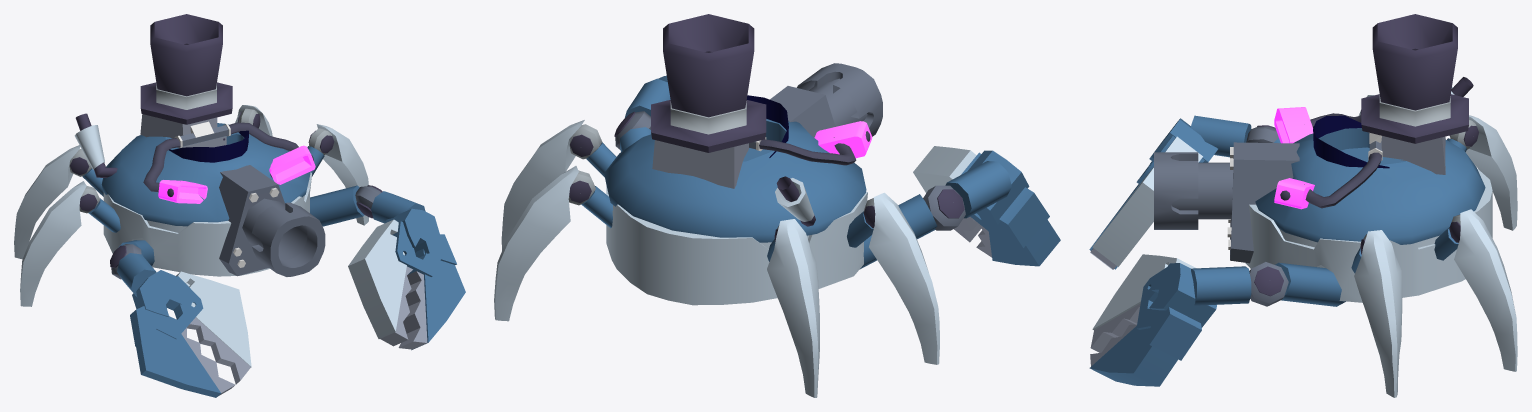
Rendered from Crabinton.fbx.
3 views of the same model, side by side, from view 1: azimuth 30°, elevation 25°; view 2: azimuth 150°, elevation 25°; view 3: azimuth 270°, elevation 25° (orthographic). The views are drawn at different scales.
Parts seen in each view (by area): view 1: base_azul, somberero, base, Objeto_Poligonal_1, Objeto_Poligonal_1_1, sup, Tubo, Fin_Pata_1, Objeto_Poligonal_1_2, Objeto_Poligonal_2, fim_pata2, Objeto_Poligonal_2_2 (+18 smaller); view 2: base_azul, base, somberero, Fin_Pata_1, fim_pata2, fim_pata2_1, Fin_Pata_1_1, Cubo, Tubo, Fin_Finza, Objeto_Poligonal_2_2, sup (+14 smaller); view 3: base_azul, somberero, base, Fin_Pata_1_1, fim_pata2_1, sup, Objeto_Poligonal_1_1, Tubo, Objeto_Poligonal_2, Objeto_Poligonal_1, fim_pata2, Objeto_Poligonal_2_1 (+15 smaller).
Boxes of the visible parts, bbox=[...] form: base_azul: bbox=[101, 123, 310, 226]; somberero: bbox=[140, 14, 232, 124]; base: bbox=[103, 172, 311, 276]; Objeto_Poligonal_1: bbox=[348, 219, 412, 346]; Objeto_Poligonal_1_1: bbox=[398, 248, 465, 350]; sup: bbox=[219, 165, 285, 276]; Tubo: bbox=[252, 202, 325, 276]; Fin_Pata_1: bbox=[20, 181, 86, 306]; Objeto_Poligonal_1_2: bbox=[136, 329, 221, 397]; Objeto_Poligonal_2: bbox=[176, 271, 251, 367]; fim_pata2: bbox=[14, 145, 80, 259]; Objeto_Poligonal_2_2: bbox=[130, 276, 203, 346]; base_azul: bbox=[604, 95, 866, 242]; base: bbox=[606, 155, 867, 305]; somberero: bbox=[651, 14, 766, 152]; Fin_Pata_1: bbox=[869, 192, 939, 364]; fim_pata2: bbox=[767, 219, 819, 397]; fim_pata2_1: bbox=[494, 166, 578, 321]; Fin_Pata_1_1: bbox=[501, 120, 584, 250]; Cubo: bbox=[652, 140, 748, 188]; Tubo: bbox=[797, 63, 882, 136]; Fin_Finza: bbox=[945, 161, 1011, 218]; Objeto_Poligonal_2_2: bbox=[961, 152, 1049, 247]; sup: bbox=[770, 86, 835, 137]; base_azul: bbox=[1255, 115, 1485, 244]; somberero: bbox=[1361, 14, 1468, 143]; base: bbox=[1245, 169, 1492, 302]; Fin_Pata_1_1: bbox=[1354, 230, 1402, 397]; fim_pata2_1: bbox=[1454, 209, 1517, 371]; sup: bbox=[1230, 142, 1299, 263]; Objeto_Poligonal_1_1: bbox=[1089, 324, 1177, 386]; Tubo: bbox=[1154, 152, 1198, 229]; Objeto_Poligonal_2: bbox=[1092, 136, 1202, 266]; Objeto_Poligonal_1: bbox=[1090, 254, 1196, 352]; fim_pata2: bbox=[1465, 115, 1517, 230]; Objeto_Poligonal_2_1: bbox=[1136, 267, 1201, 360].
Size of the model in its own units: 787 by 540 by 713.
